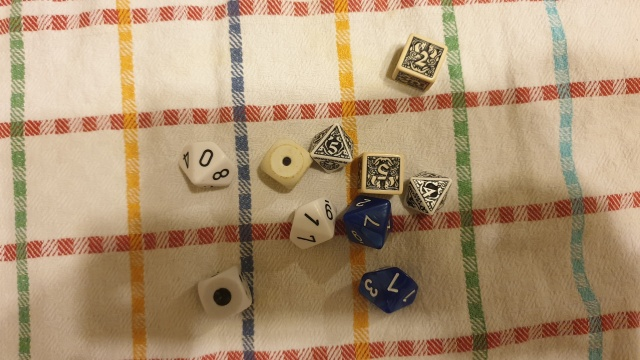d10-1: (284, 195, 338, 254)
d10-10: (175, 136, 235, 193)
d10-7: (355, 262, 428, 322), (343, 194, 400, 253)
d6-1: (194, 263, 256, 324), (256, 135, 311, 193)
d6p-2: (388, 28, 451, 95)
d6p-5: (358, 150, 404, 199)
d8p-4: (403, 164, 454, 221)
d8p-5: (308, 121, 355, 179)
